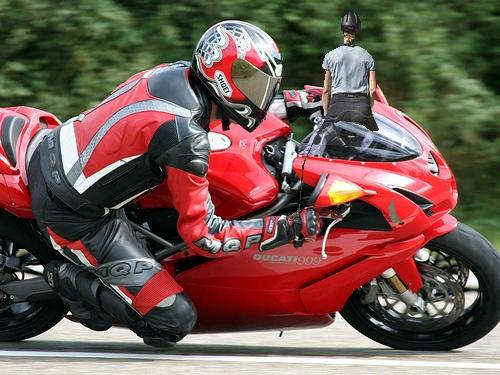tampered: (290, 12, 402, 223)
